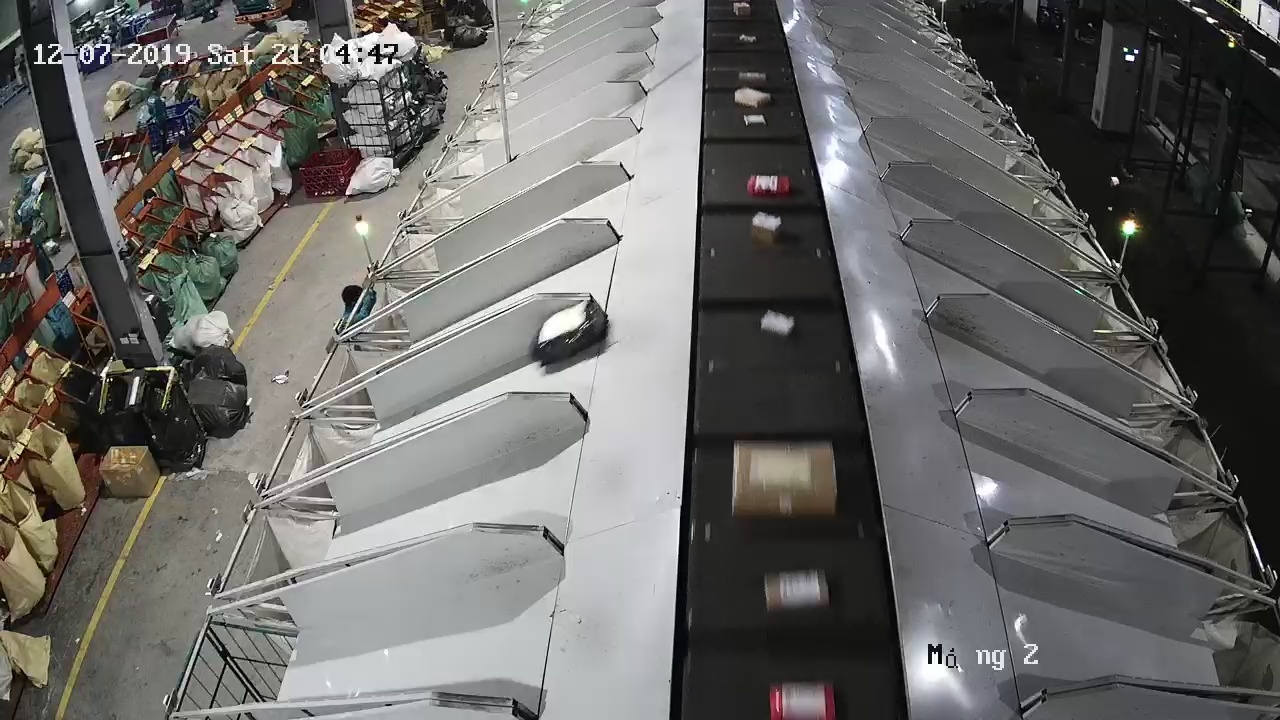parcel: (530, 298, 608, 367)
